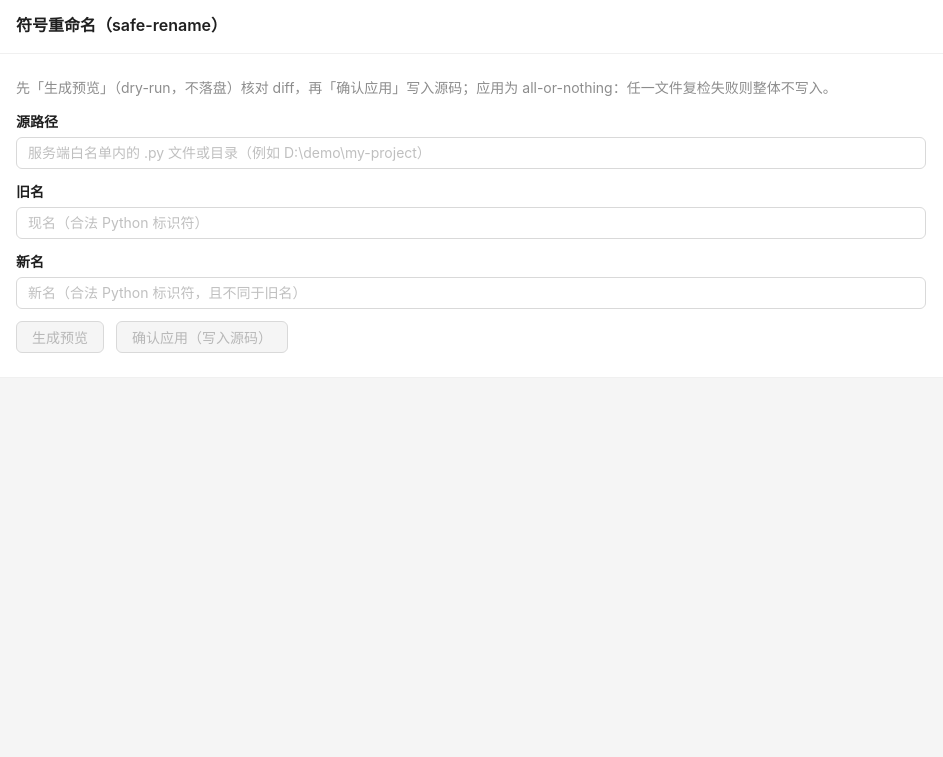
Scenario: RenameTool › 确认应用成功：请求带 apply=true，展示已写入文件数与 applied 状态
Type "D:\\demo\\my-project" into the field with placeholder "服务端白名单内的 .py 文件或目录（例如 D:\\demo\\my-project）" at (463, 153), box x1=28 y1=142 x2=898 y2=164
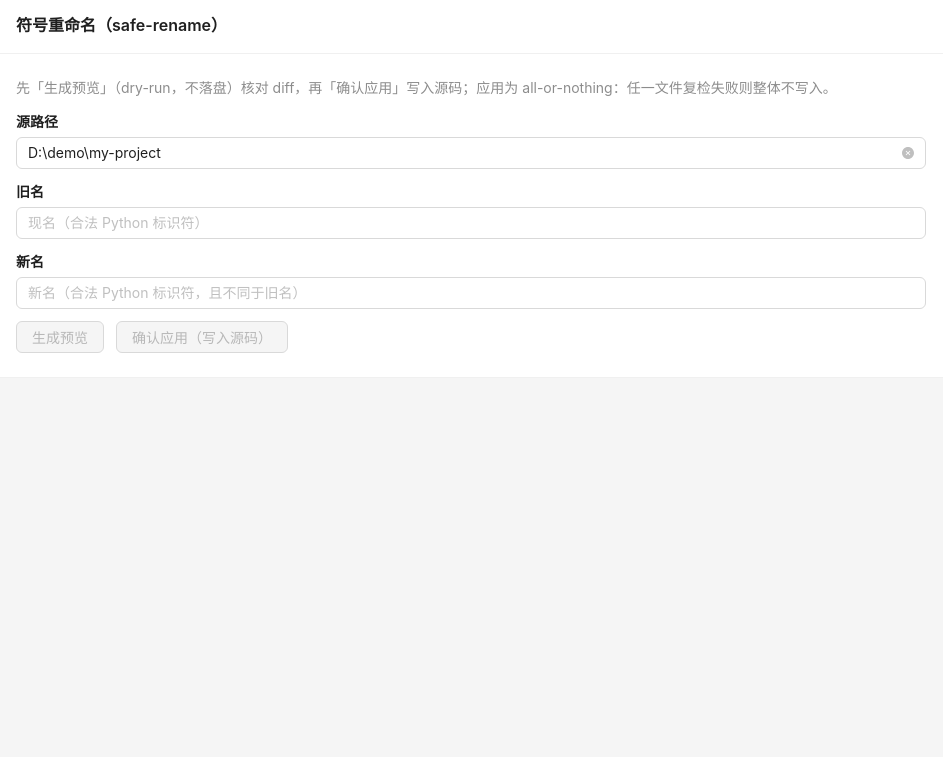
Type "old_name" into the field with placeholder "现名（合法 Python 标识符）" at (463, 223), box x1=28 y1=212 x2=898 y2=234
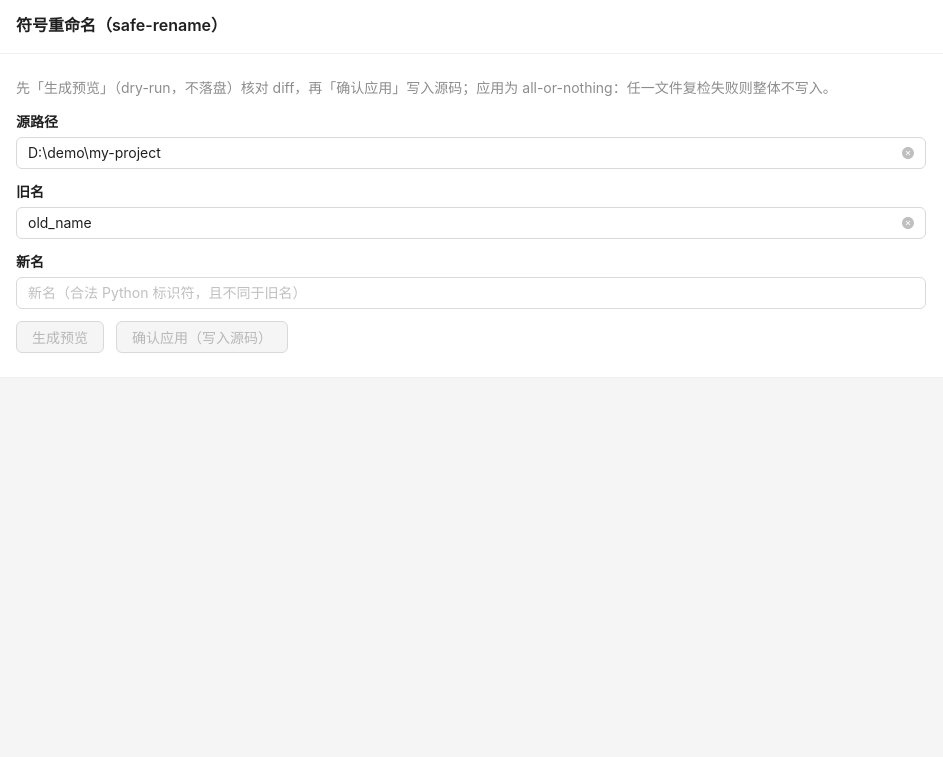
Type "new_name" into the field with placeholder "新名（合法 Python 标识符，且不同于旧名）" at (463, 293), box x1=28 y1=282 x2=898 y2=304
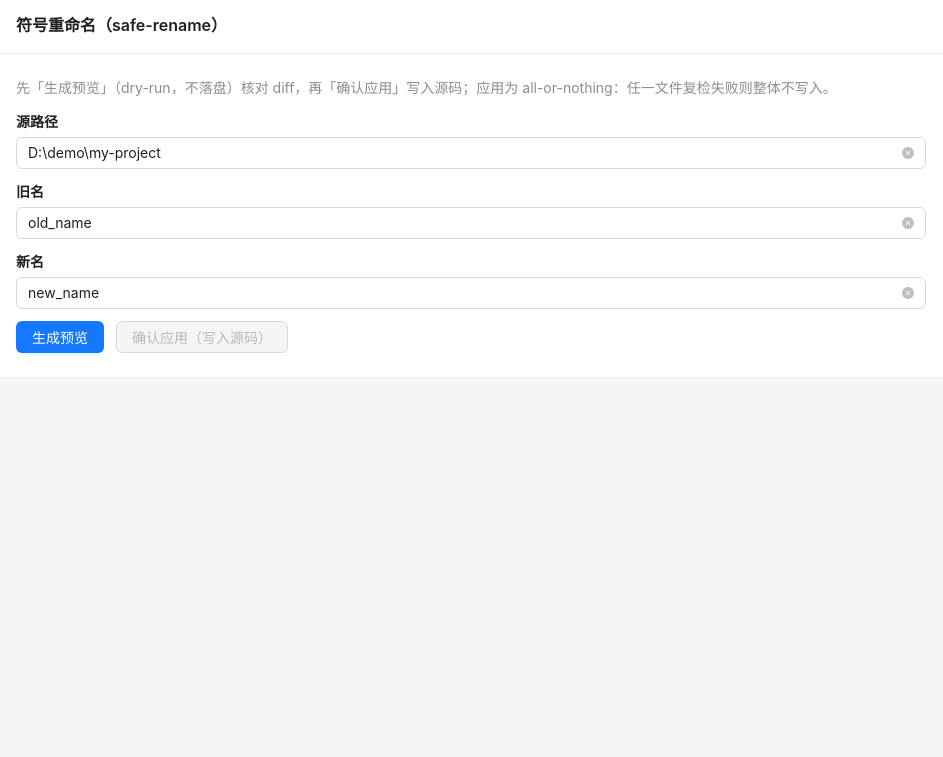
Click the button "生成预览" at (60, 337), box x1=16 y1=321 x2=104 y2=353
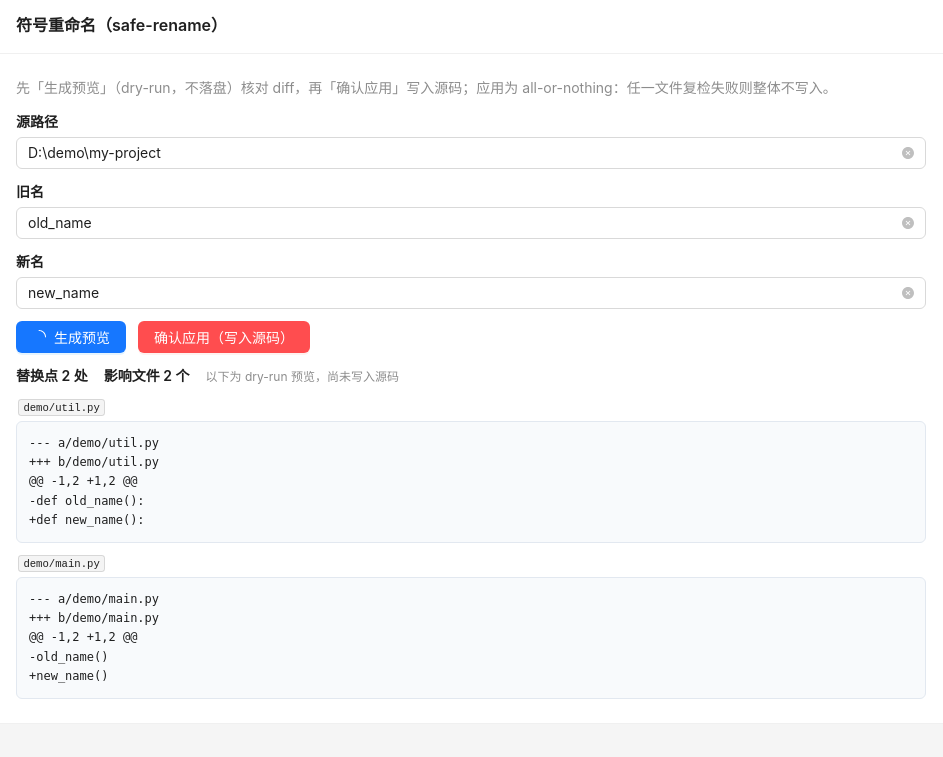
Result: the button "确认应用（写入源码）" is enabled
Click the button "确认应用（写入源码）" at (224, 337), box x1=138 y1=321 x2=310 y2=353
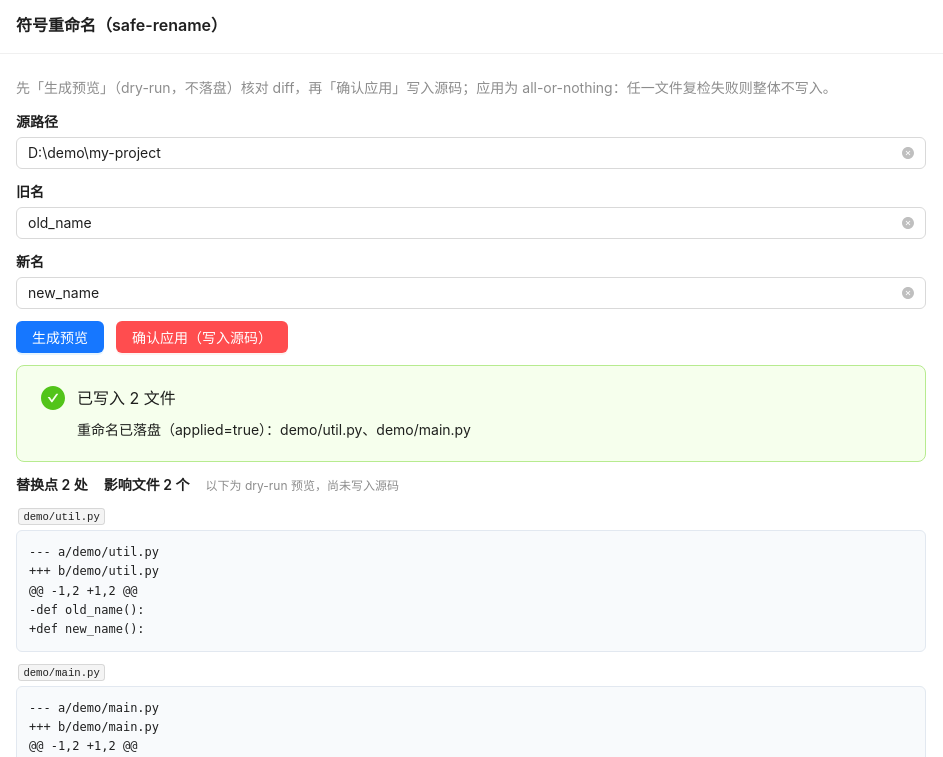
Result: the text "已写入 2 文件" is shown at x1=77 y1=388 x2=176 y2=408
Result: the text "重命名已落盘（applied=true）：demo/util.py、demo/main.py" is shown at x1=77 y1=421 x2=471 y2=438
